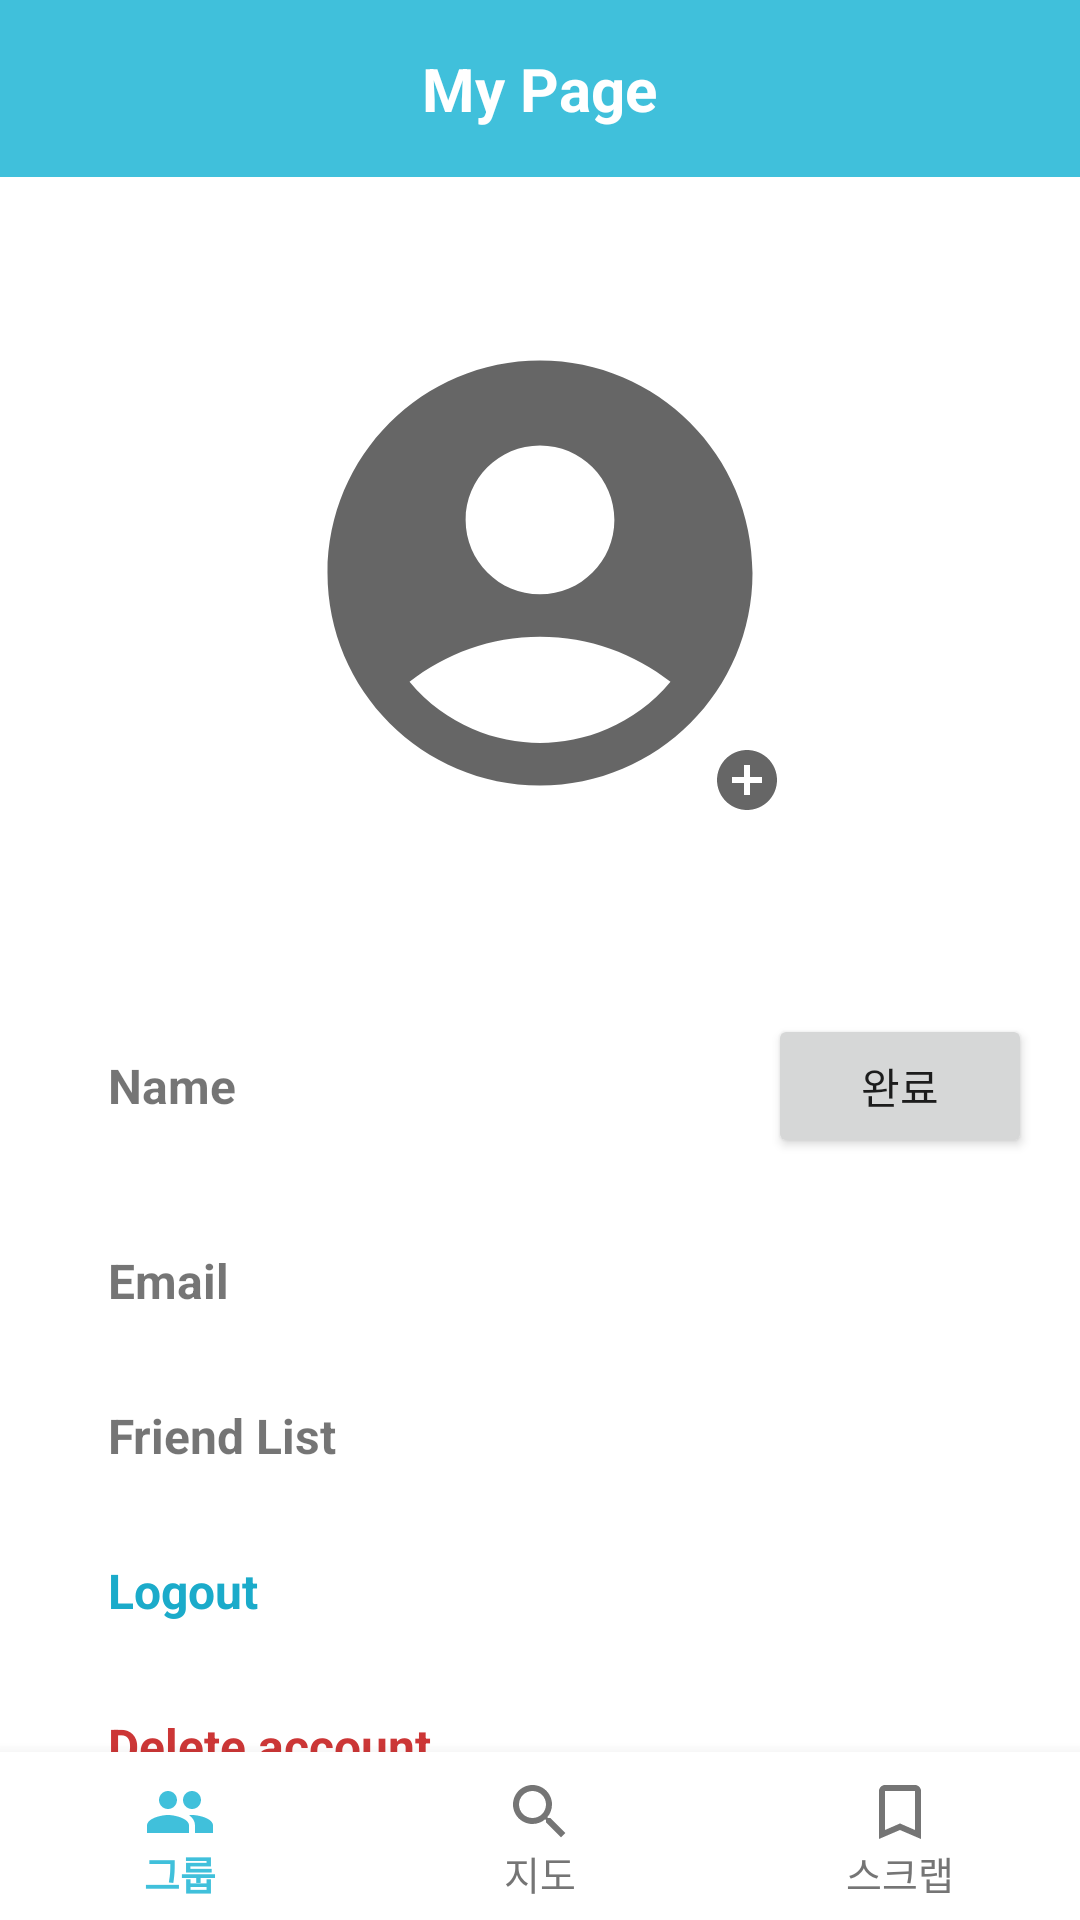

Where to tap for icons on this 1080w x 1920h app screen, as [x,y]:
add circle: [747,780]
